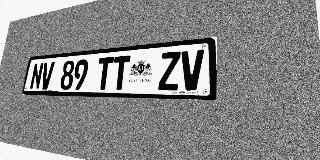8: (59, 60, 76, 90)
9: (72, 59, 89, 90)
N: (29, 63, 44, 89)
T: (111, 55, 130, 90), (95, 57, 114, 90)
V: (180, 49, 204, 90), (39, 62, 55, 90)
Z: (158, 51, 181, 90)
